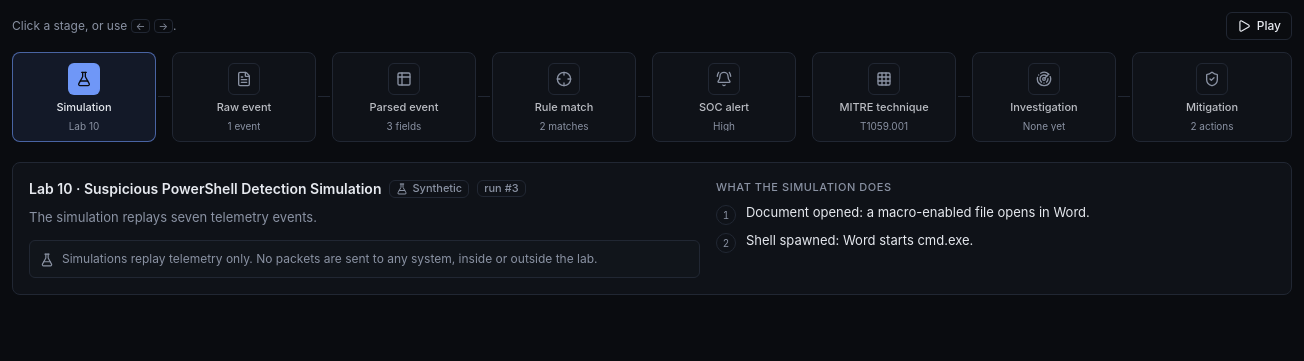
Test case: LifecycleFlow › highlights the values the rule matched in the raw event
Click the tab "Raw event 1 event".
click(244, 97)  # box [172,52,316,142]
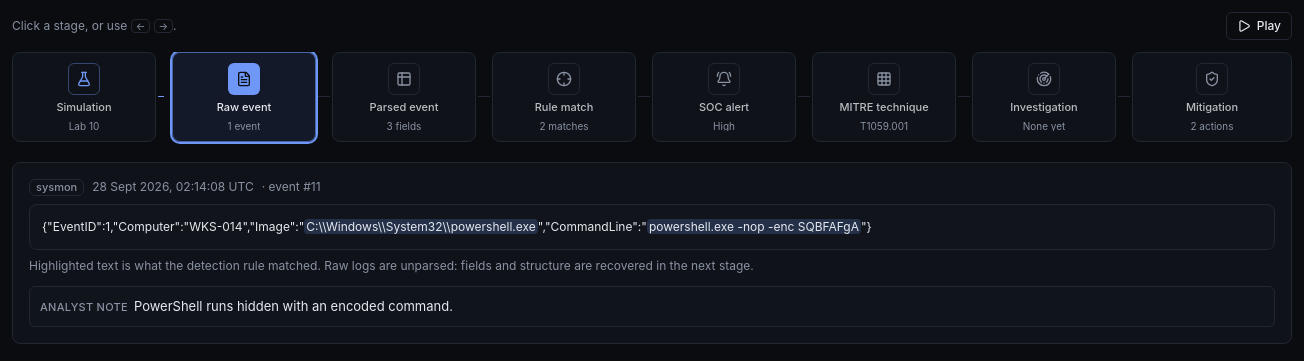
expect the text "PowerShell runs hidden" is shown: met, box [134,298,453,314]
